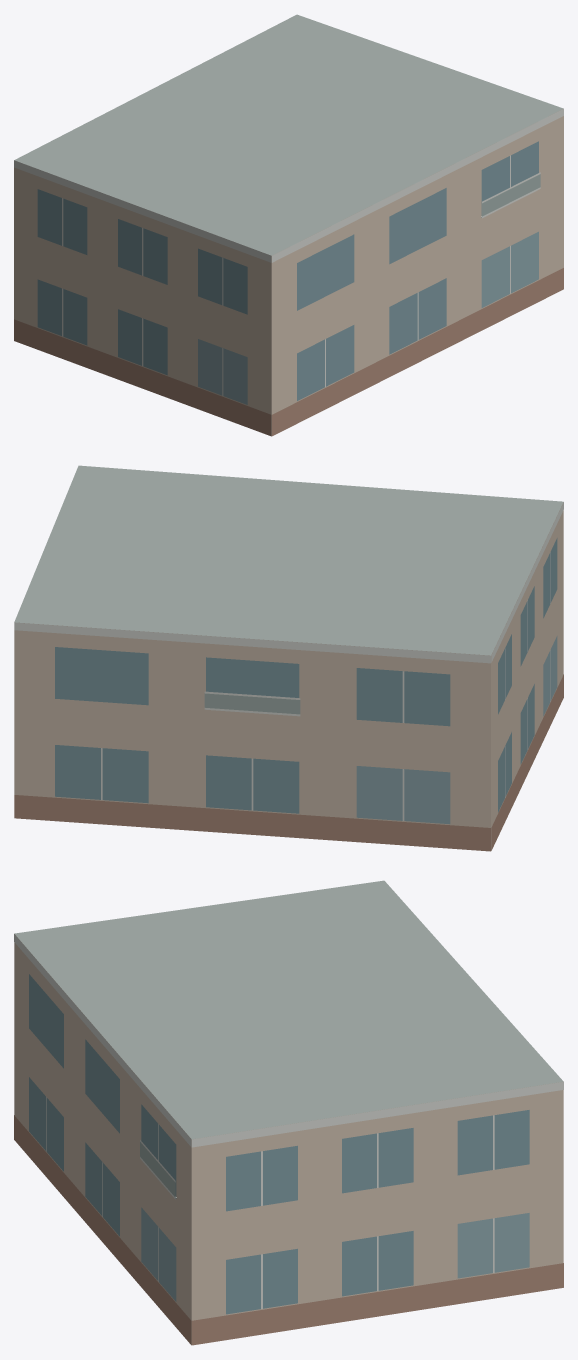
File: survey-upis-32523632.glb
3 renders of one model, top to bottom at view 1: azimuth 30°, elevation 25°; view 2: azimuth 150°, elevation 25°; view 3: azimuth 270°, elevation 25°, orthographic. The views are drawn at different scales.
Visible parts, largest first — view 1: survey-upis-32523632.tmp; view 2: survey-upis-32523632.tmp; view 3: survey-upis-32523632.tmp.
Part boxes in pixels (box(x1,y1,x2,y2)): survey-upis-32523632.tmp: box(14, 14, 563, 436); survey-upis-32523632.tmp: box(14, 465, 563, 851); survey-upis-32523632.tmp: box(14, 880, 563, 1345).
Bounding box in the file's own units: 16.45 × 6.1 × 14.76.
